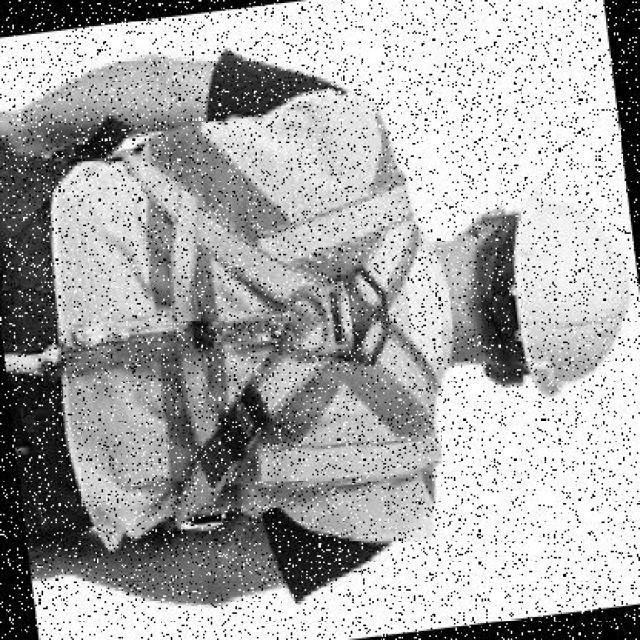Arnes_seguridad: (117, 123, 448, 531)
